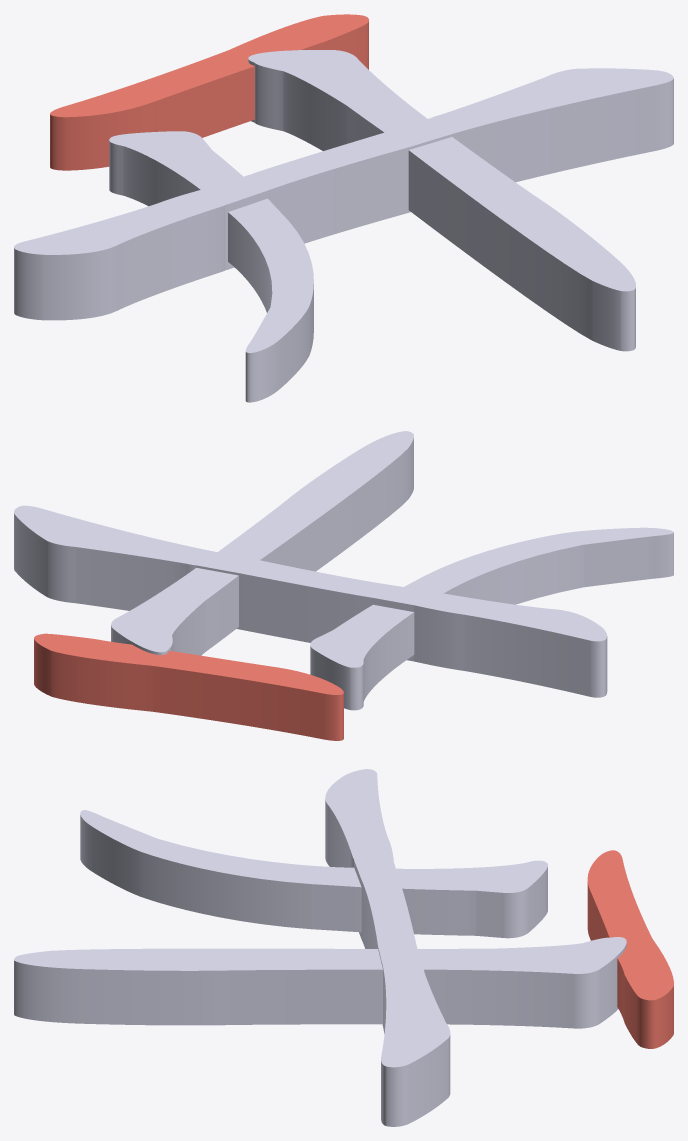
The model's file is hanzi128.fbx.
The picture shows the model from 3 angles, top to bottom: view 1: azimuth 30°, elevation 25°; view 2: azimuth 150°, elevation 25°; view 3: azimuth 270°, elevation 25°; orthographic projection. The views are drawn at different scales.
Visible parts, largest first — view 1: Curve.001, Curve.003, Curve.002, Curve; view 2: Curve.001, Curve.003, Curve.002, Curve; view 3: Curve.003, Curve.002, Curve.001, Curve.
Part boxes in pixels (x1,y1,x2,y2): Curve.001: (14,68,673,320); Curve.003: (248,50,635,351); Curve.002: (109,131,313,402); Curve: (50,14,368,170); Curve.001: (14,505,607,697); Curve.003: (111,431,413,655); Curve.002: (310,527,673,710); Curve: (34,633,343,740); Curve.003: (14,937,626,1028); Curve.002: (80,810,547,938); Curve.001: (325,769,450,1126); Curve: (587,850,673,1048).
Bounding box in the file's own units: 24.13 × 22.57 × 2.25.
